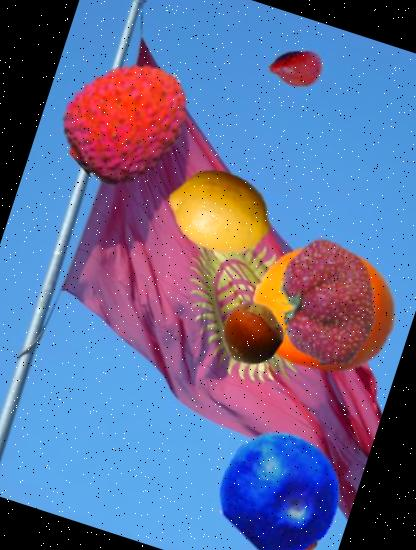Grapefruit: (233, 219, 414, 400)
Huckleberry: (203, 415, 357, 550)
Lemon: (153, 145, 285, 276)
Lychee: (44, 38, 210, 204)
Nut: (210, 292, 294, 375)
Salak: (260, 34, 332, 106)
Strawberry: (244, 220, 406, 381), (237, 479, 330, 550)
